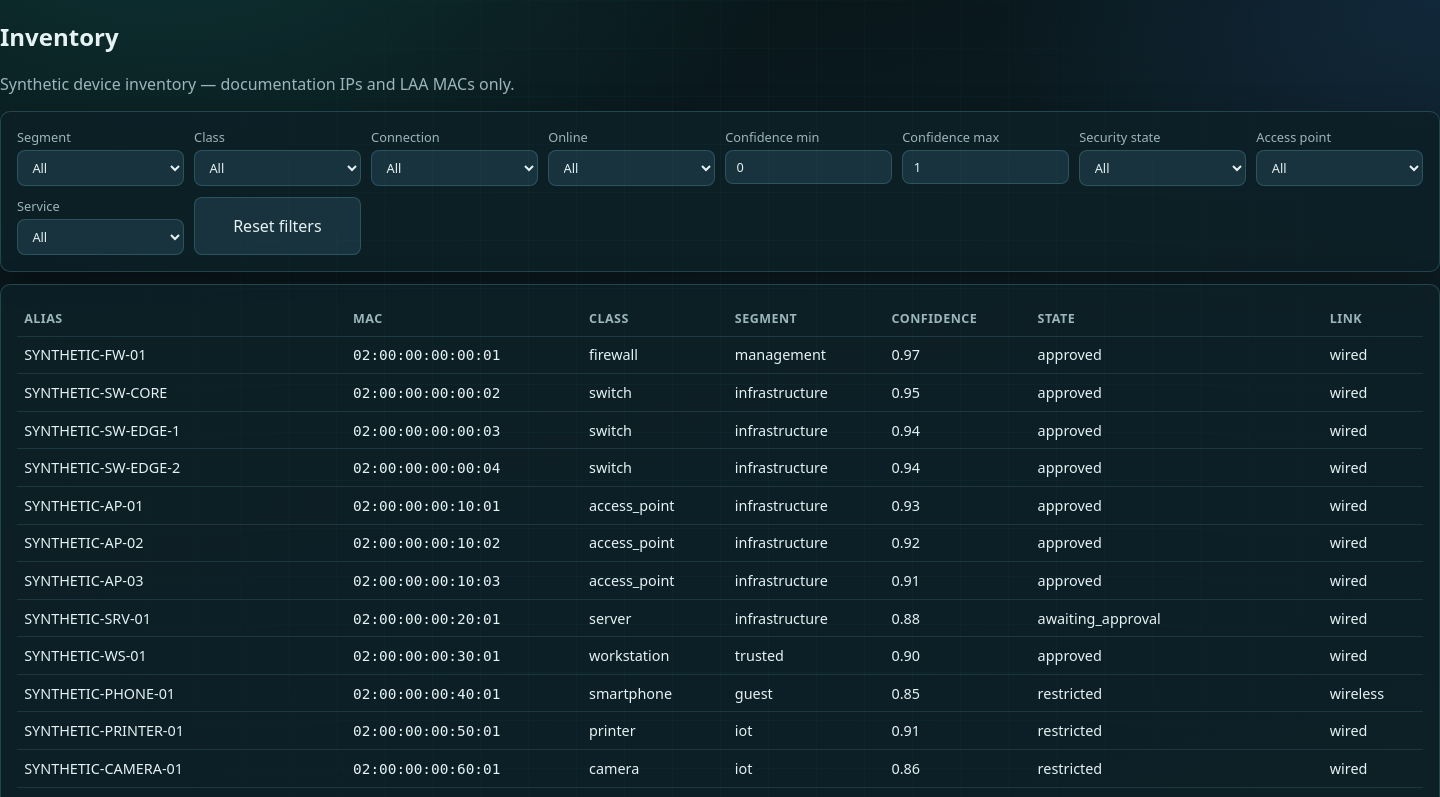
Filters › empty inventory state when filters match nothing
Select "management" in the dropdown named "Filter by segment" at (100, 168), box [17,150,184,186]
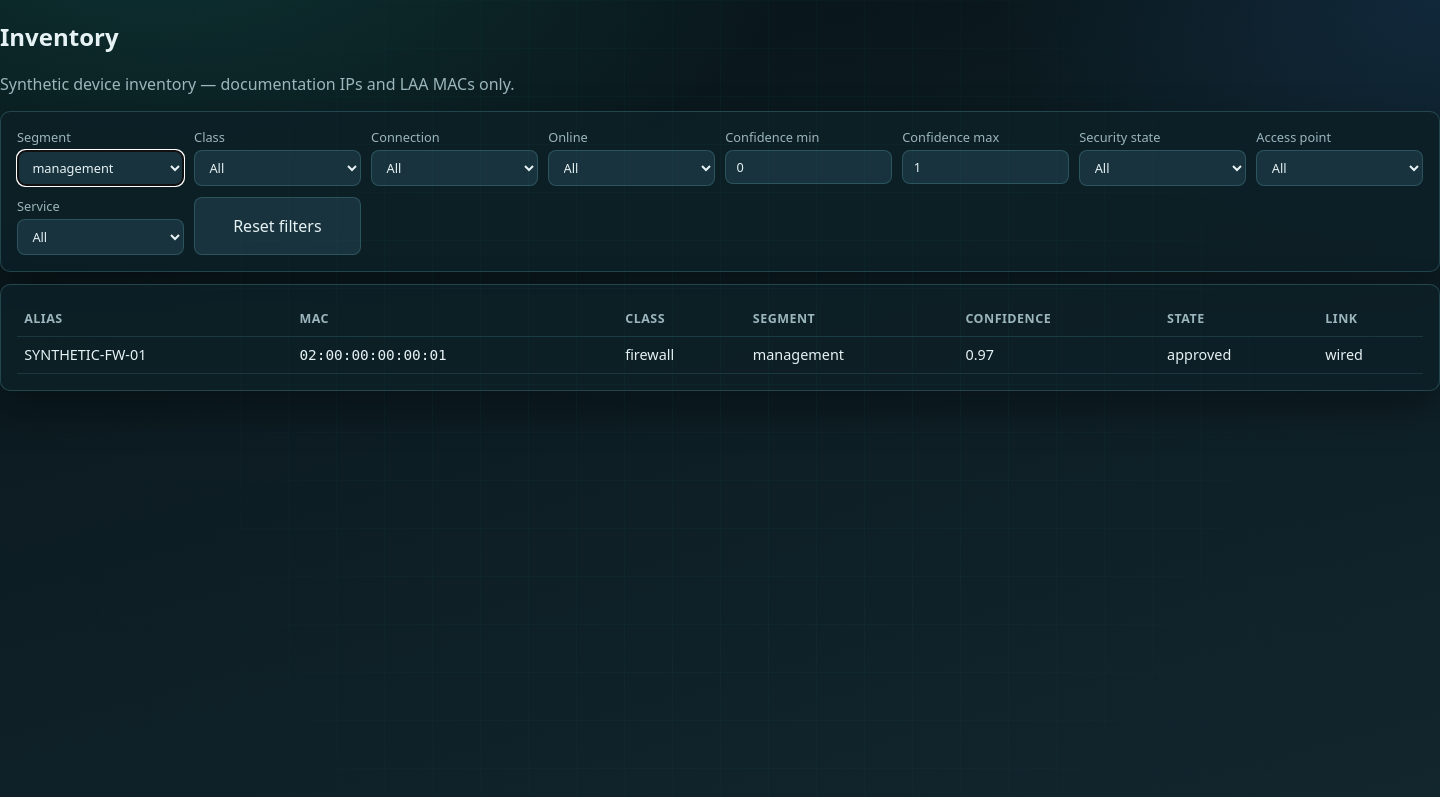
Select "printer" in the dropdown named "Filter by class" at (277, 168), box [194,150,361,186]
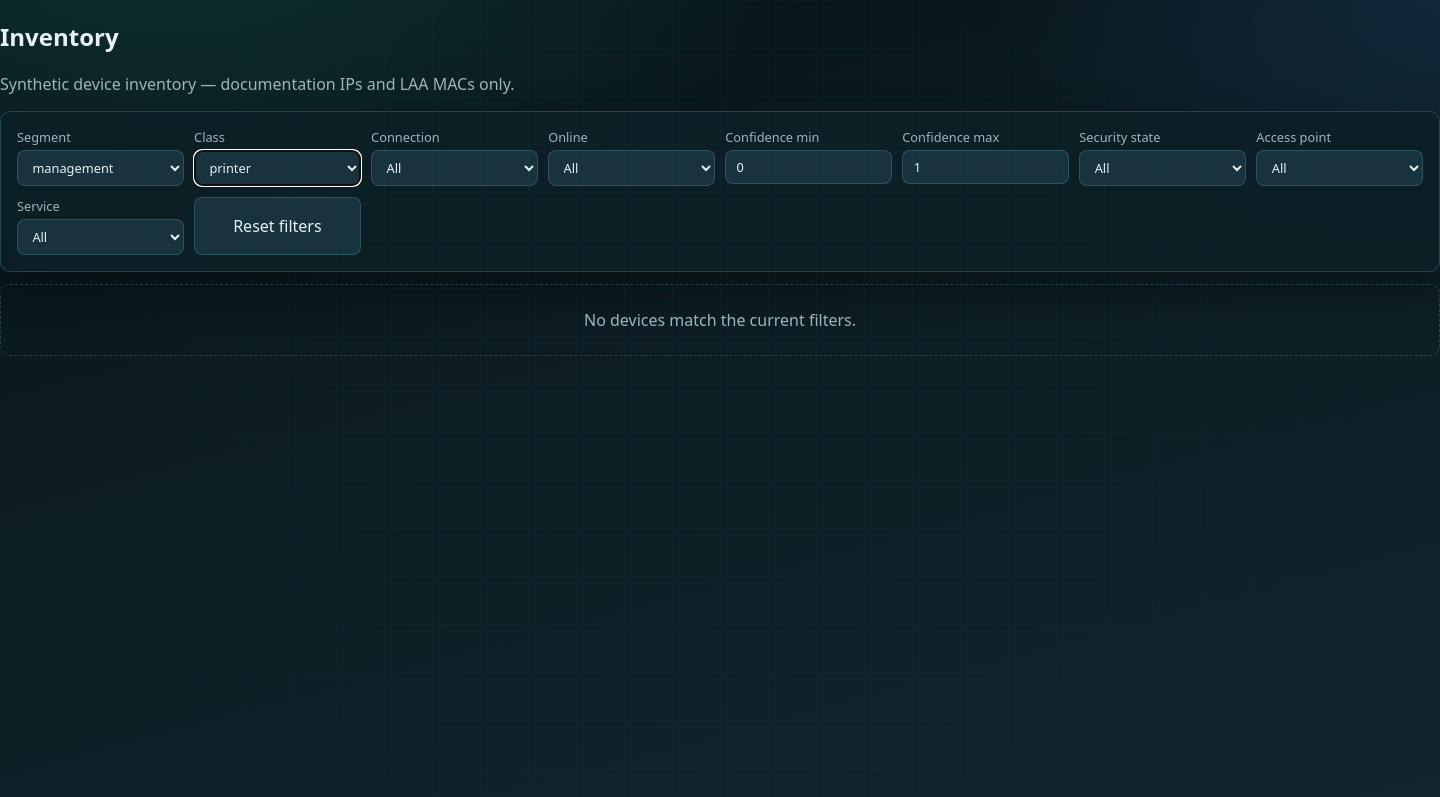
Expected: the text "No devices match the current filters." is shown, [0,284,1439,356]
